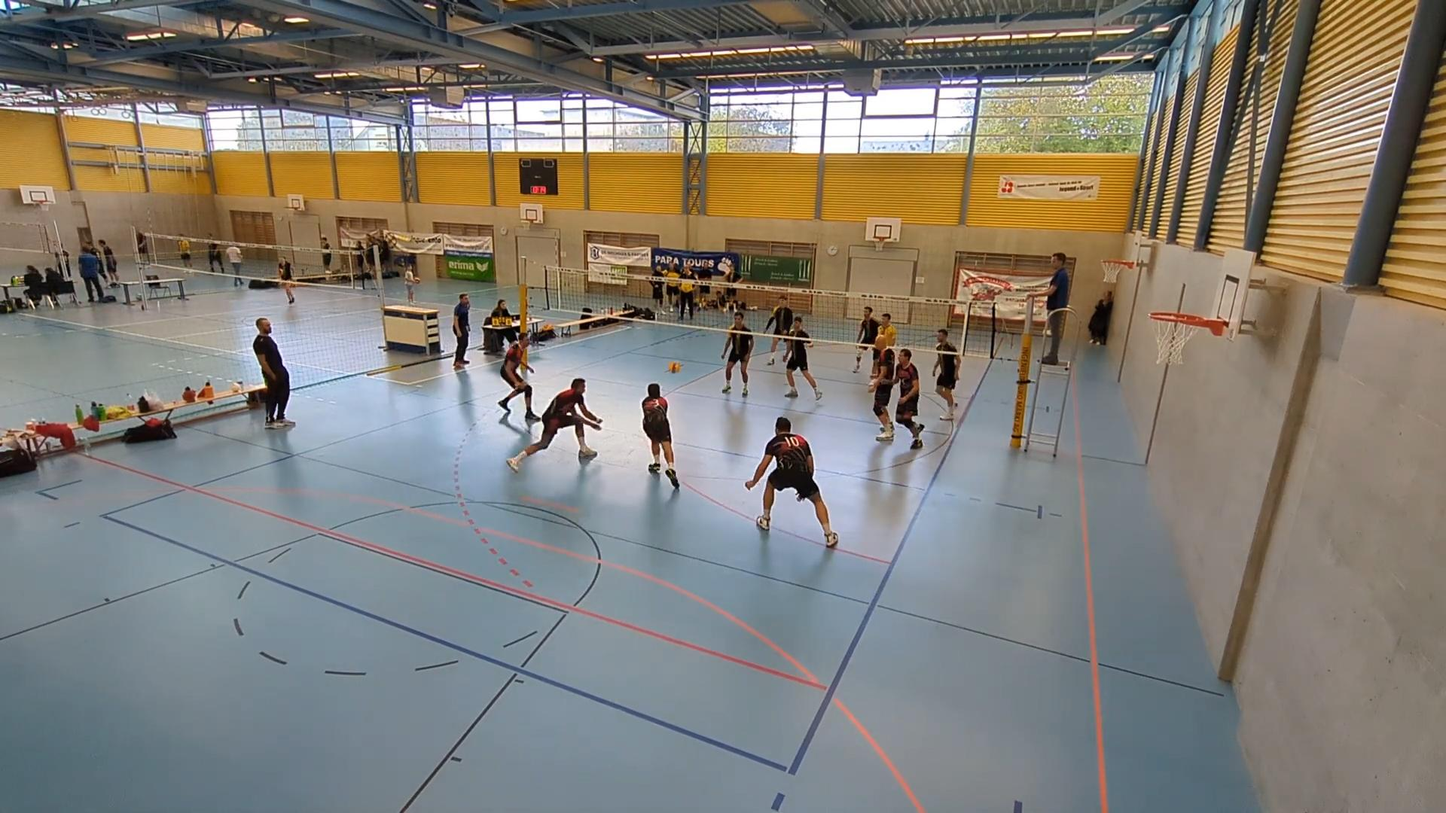ricezione: (640, 380, 682, 490)
